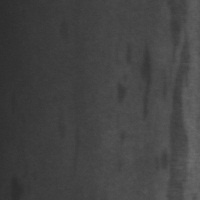inclusion: (159, 2, 193, 198), (132, 35, 157, 124), (66, 121, 85, 177), (110, 72, 131, 103)
